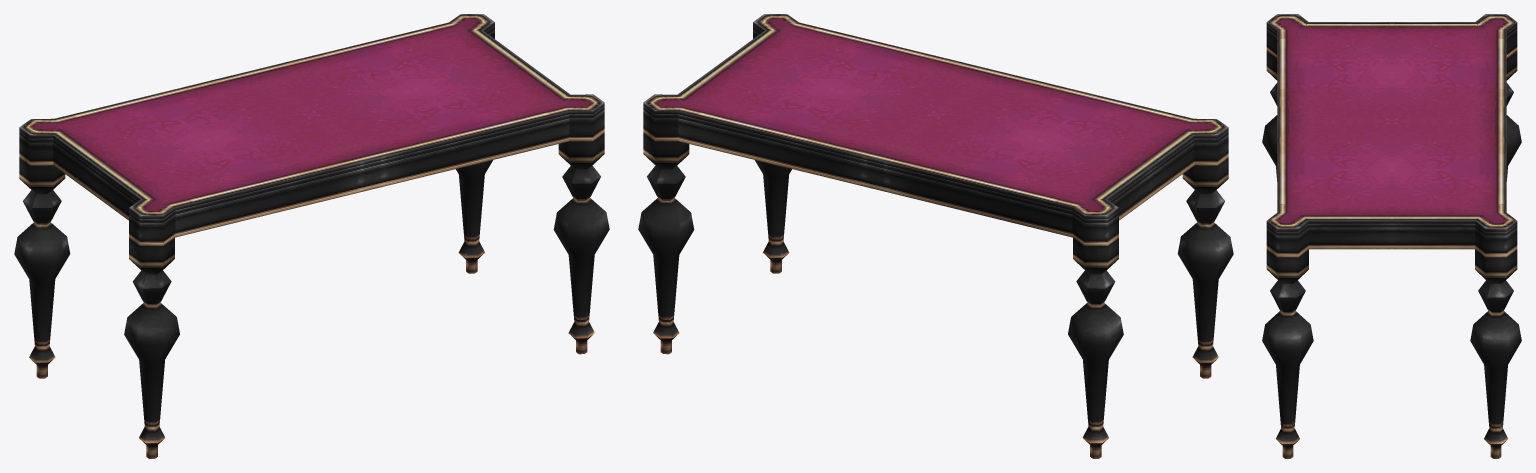
The model's file is furni_0200306_01.FBX.
3 renders of one model, left to right at view 1: azimuth 30°, elevation 25°; view 2: azimuth 150°, elevation 25°; view 3: azimuth 270°, elevation 25°, orthographic. The views are drawn at different scales.
Visible parts, largest first — view 1: furni_0200306_01; view 2: furni_0200306_01; view 3: furni_0200306_01.
Boxes of the visible parts, x1,y1,x2,y2 form: furni_0200306_01: (14, 14, 609, 458); furni_0200306_01: (638, 14, 1233, 458); furni_0200306_01: (1262, 14, 1521, 458).
Size of the model in its own units: 158 by 79.93 by 79.66.
1 material, 1 textured.
